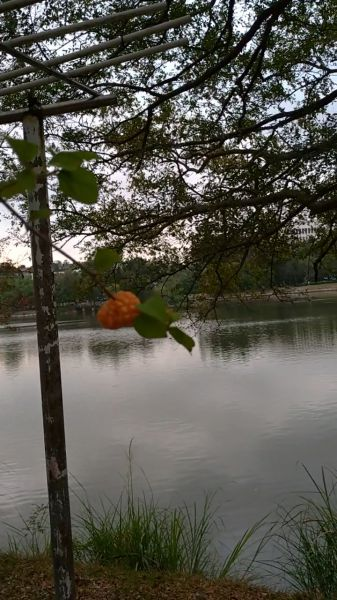eggs: (93, 288, 147, 334)
